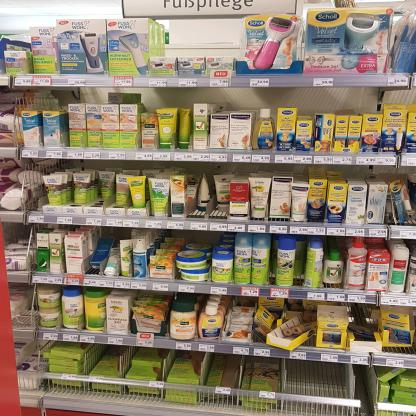Void: (290, 360, 347, 402), (170, 23, 241, 54), (300, 88, 378, 113), (216, 88, 258, 110), (140, 88, 191, 106), (261, 90, 296, 108)
